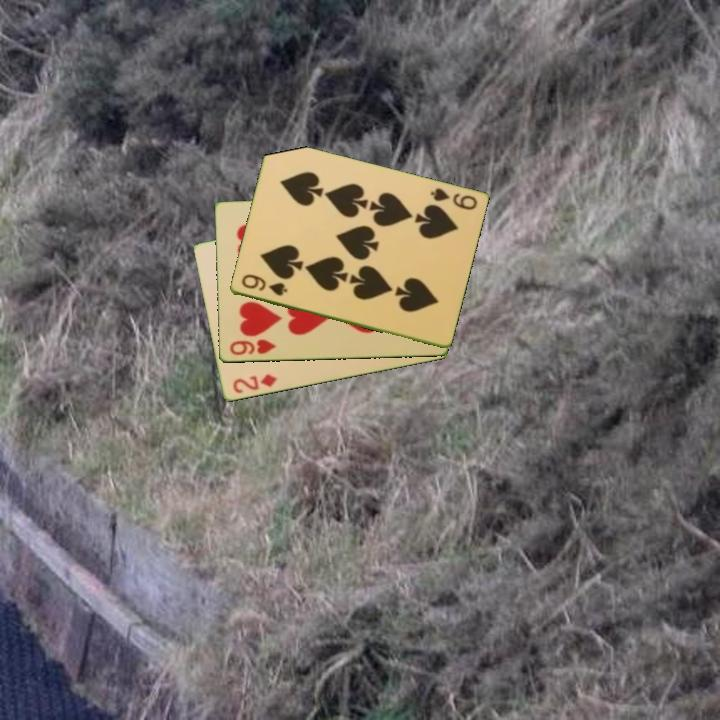2d: (229, 370, 280, 397)
9h: (226, 336, 279, 358)
9s: (426, 185, 480, 213), (238, 271, 290, 299)
